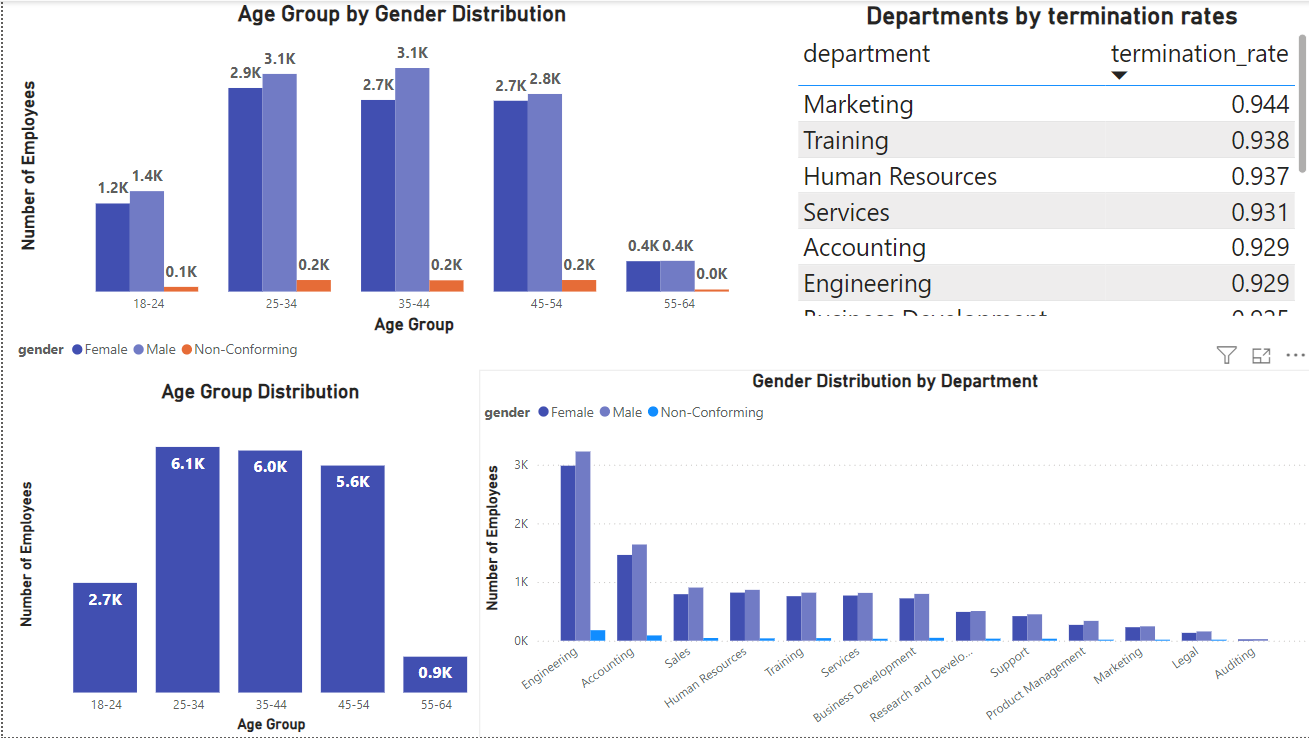

The dashboard page shown, as its layout file describes it:
{"tool":"powerbi","page":{"name":"Page 2","canvas":[1280,720],"ordinal":1},"visuals":[{"type":"clusteredColumnChart","title":"Age Group by Gender Distribution","fields":{"Category":["age_group_gender.age_group"],"Y":["Sum(age_group_gender.count)"],"Series":["age_group_gender.gender"]},"box":[10,0,761,360],"z":0},{"type":"clusteredColumnChart","title":"Age Group Distribution","fields":{"Category":["age_group.age_group"],"Y":["Sum(age_group.count)"]},"box":[10,370,484,350],"z":1000},{"type":"clusteredColumnChart","title":"Gender Distribution by Department","fields":{"Y":["Sum(gender_depts.count)"],"Category":["gender_depts.department"],"Series":["gender_depts.gender"]},"box":[466,361,814,359],"z":2000},{"type":"tableEx","title":"Departments by termination rates","fields":{"Values":["dept_high_term.department","dept_high_term.termination_rate"]},"box":[771,0,509,313],"z":3000}]}

Visuals, with their boxes in screenshot pixels (x1, y1, x2, y2), scaled from the page's 1280x720 canvas onto the 1309x738 screenshot:
"Age Group by Gender Distribution" clusteredColumnChart: [10,0,788,369]
"Age Group Distribution" clusteredColumnChart: [10,379,505,737]
"Gender Distribution by Department" clusteredColumnChart: [477,370,1308,737]
"Departments by termination rates" tableEx: [788,0,1308,321]
